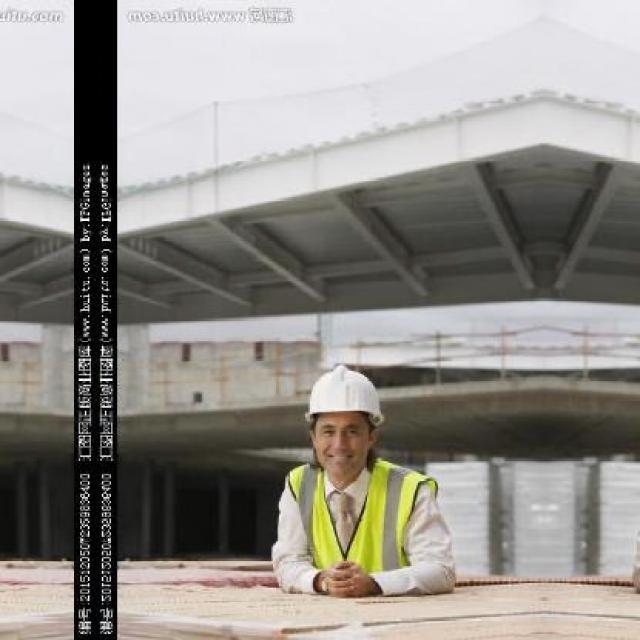Reflective-Jacket: (274, 457, 452, 598)
Safety-Helmet: (295, 360, 393, 434)
